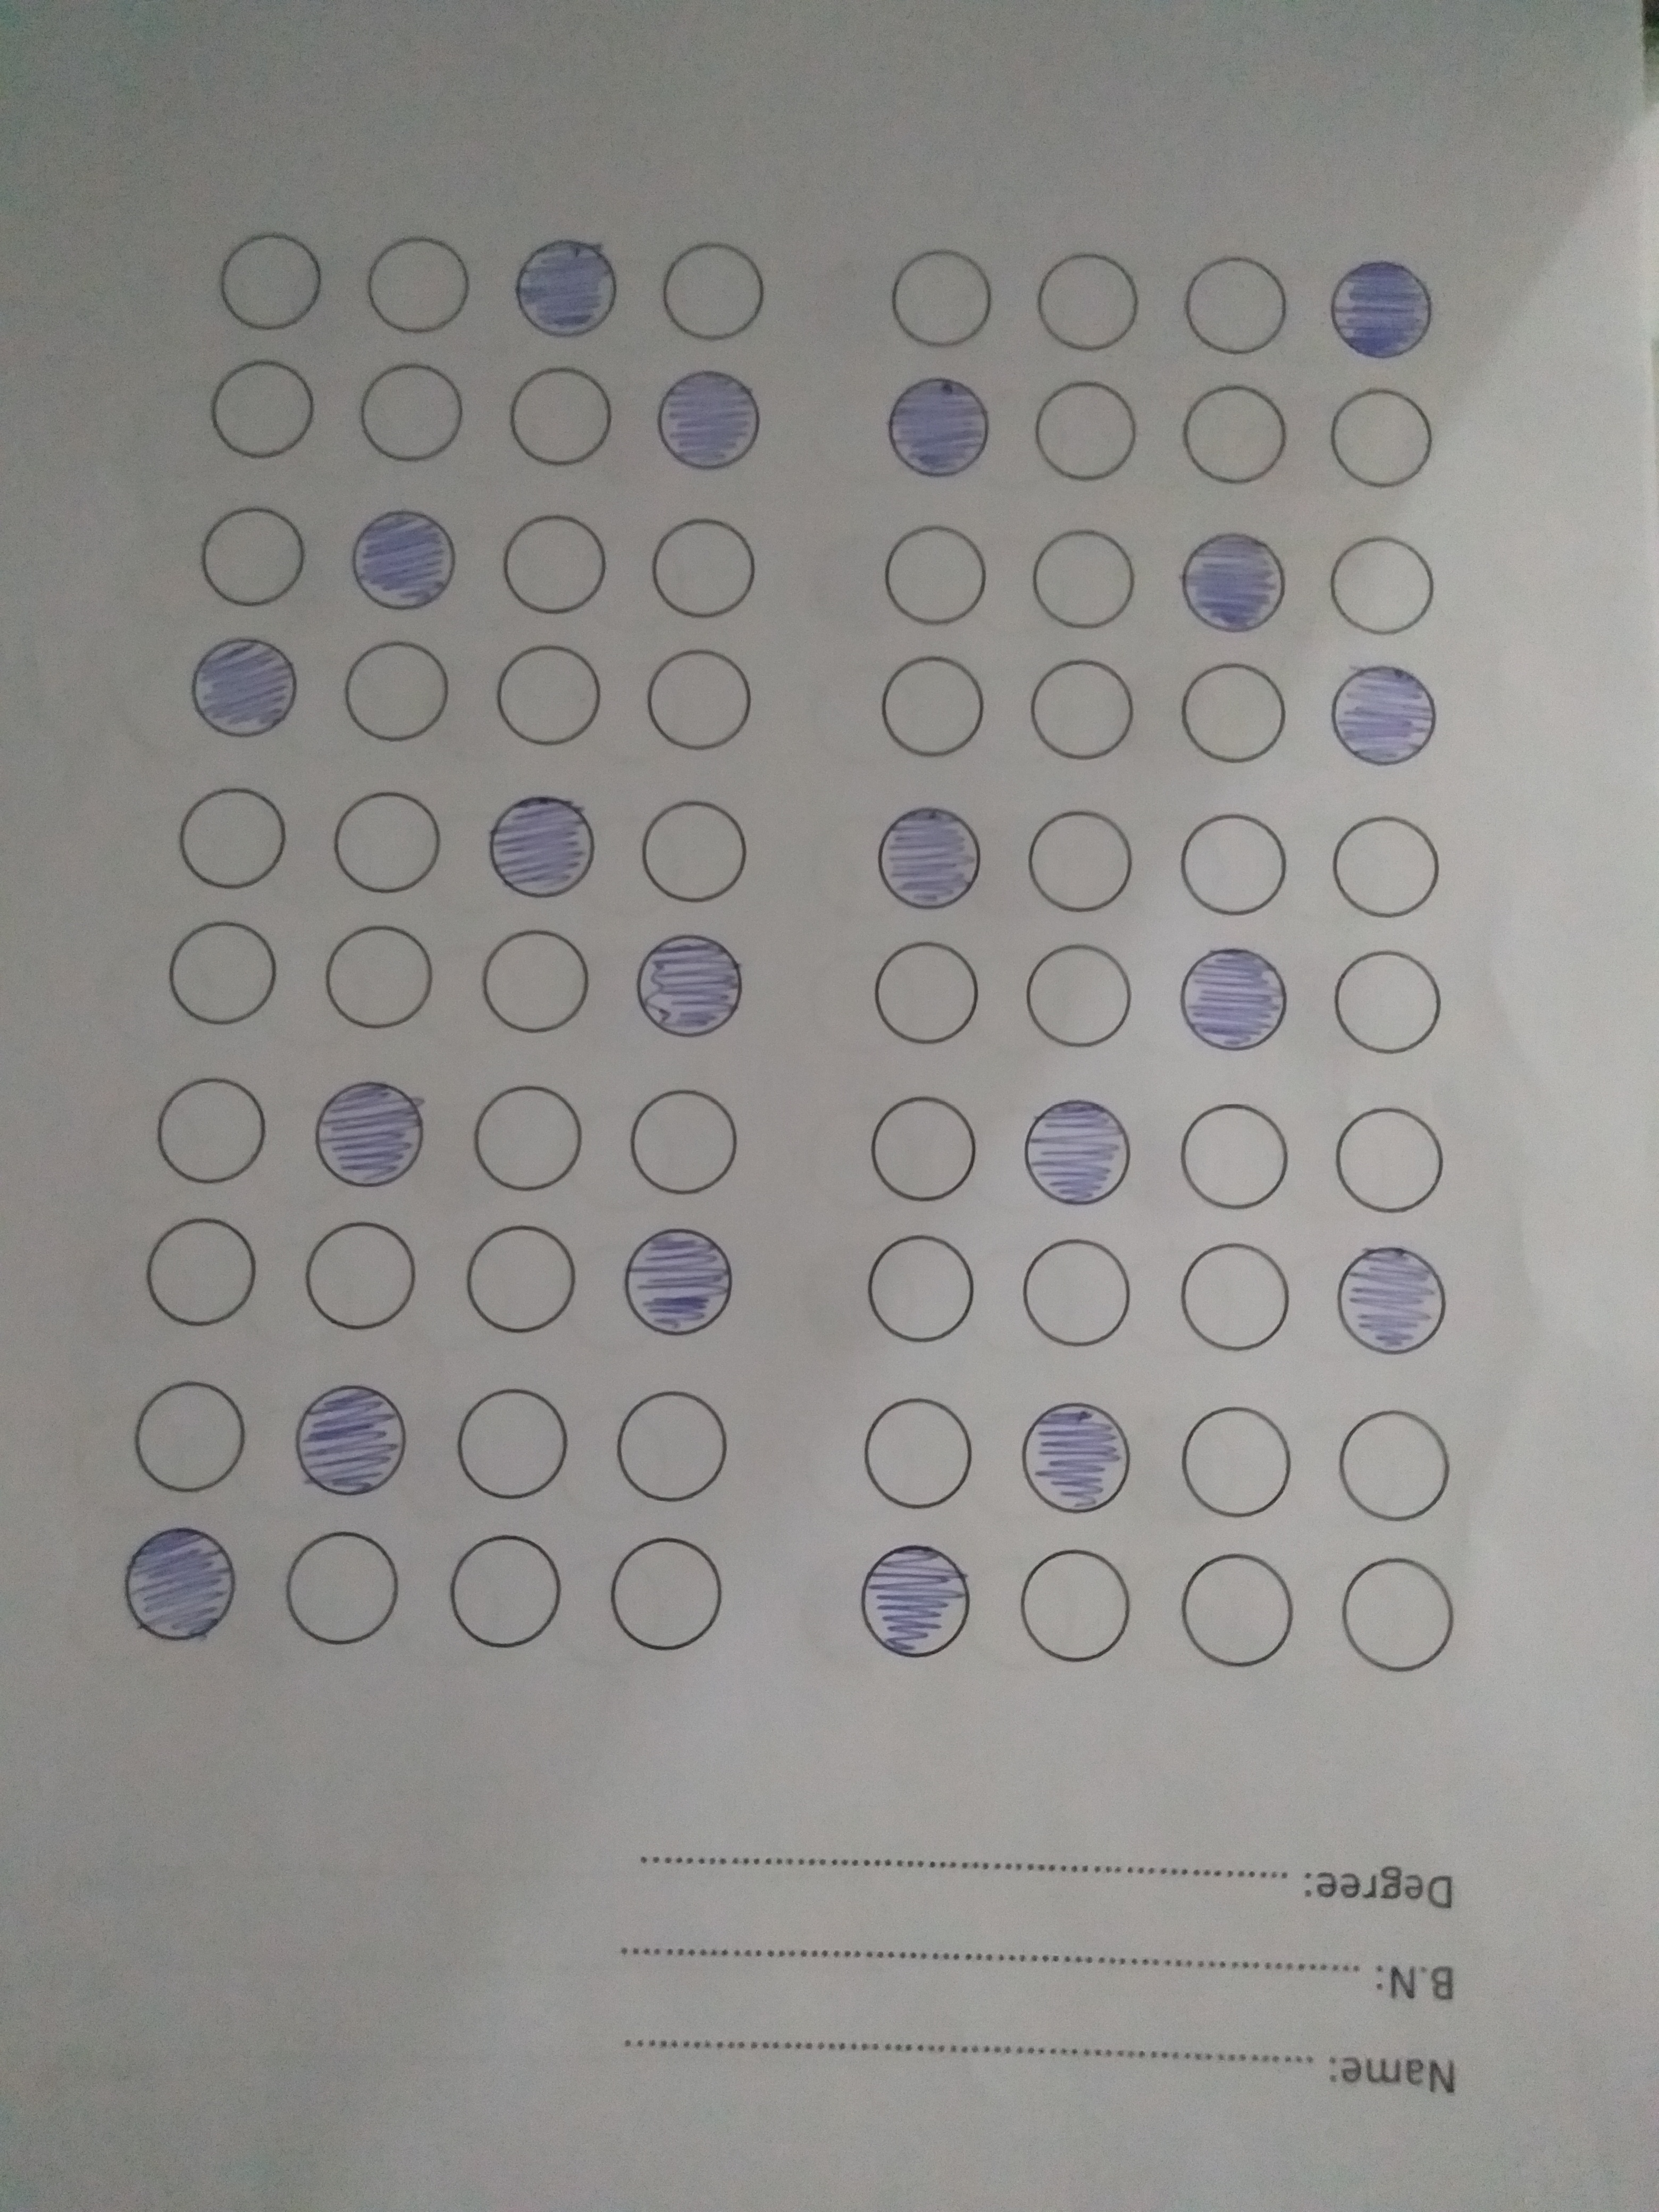not-c: (861, 1221, 983, 1353), (146, 1071, 277, 1191), (493, 509, 613, 629), (622, 1085, 742, 1205), (866, 932, 986, 1052), (1319, 806, 1439, 927), (1323, 524, 1443, 644), (1314, 376, 1434, 496), (1025, 374, 1145, 495), (870, 648, 990, 768), (1328, 1099, 1448, 1219), (863, 1089, 983, 1209), (451, 1223, 572, 1343), (878, 519, 999, 637), (1028, 239, 1147, 359), (877, 240, 997, 359), (652, 226, 772, 345), (491, 639, 610, 759), (333, 629, 451, 749), (350, 352, 471, 470), (502, 364, 622, 482), (645, 509, 765, 627), (192, 496, 312, 615), (202, 347, 322, 465), (209, 225, 329, 343), (1324, 937, 1445, 1055), (1016, 935, 1136, 1054), (1173, 808, 1293, 927), (1182, 655, 1302, 773), (1019, 655, 1140, 773), (1175, 374, 1295, 493), (1175, 1240, 1295, 1359), (1023, 1237, 1143, 1355), (859, 1395, 979, 1514), (610, 1385, 730, 1503), (453, 1390, 572, 1510), (300, 1217, 420, 1336), (465, 1085, 586, 1204), (124, 1378, 244, 1496), (141, 1214, 261, 1332), (608, 1533, 727, 1653), (1021, 1541, 1140, 1662), (1176, 1552, 1297, 1670), (441, 1533, 561, 1651), (333, 777, 451, 895), (173, 782, 291, 900), (641, 784, 760, 902), (641, 631, 760, 749), (354, 223, 472, 341), (160, 918, 279, 1036), (317, 918, 436, 1036), (474, 921, 592, 1040), (1028, 808, 1147, 927), (1025, 523, 1143, 641), (1178, 244, 1297, 362), (282, 1526, 401, 1644), (1330, 1407, 1448, 1526), (1176, 1404, 1295, 1522), (1176, 1097, 1295, 1216), (1337, 1554, 1455, 1672)
taken-c: (864, 798, 985, 918), (648, 357, 769, 477), (1018, 1393, 1136, 1514), (617, 1221, 737, 1339), (310, 1071, 430, 1190), (1331, 1240, 1452, 1359), (1176, 942, 1297, 1061), (479, 786, 599, 904), (342, 498, 462, 617), (1323, 658, 1443, 777), (1171, 523, 1291, 641), (507, 228, 627, 347), (117, 1524, 237, 1642), (289, 1379, 410, 1498), (1016, 1096, 1134, 1214), (629, 923, 748, 1042), (181, 631, 300, 749), (1323, 247, 1441, 366), (884, 366, 1002, 484), (852, 1541, 971, 1660)
